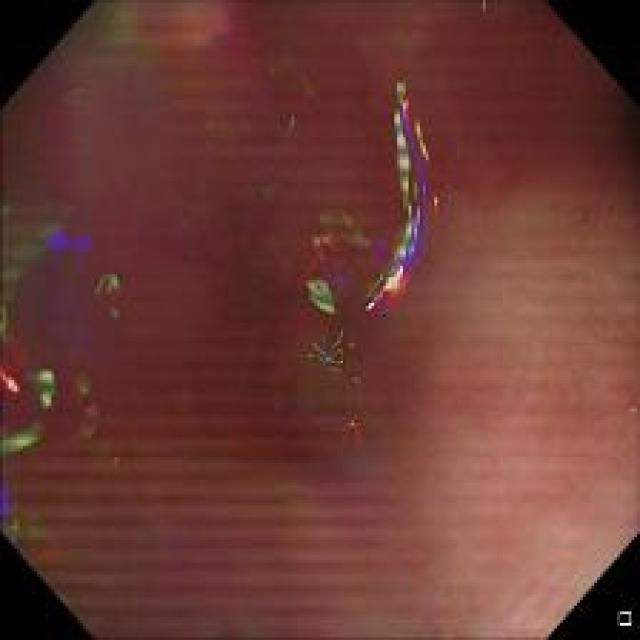color misalignment: (6, 61, 336, 319), (0, 194, 90, 461), (358, 60, 444, 338), (295, 192, 368, 406), (56, 0, 246, 68), (252, 46, 326, 169), (6, 489, 66, 586), (81, 391, 122, 481), (95, 262, 126, 334), (324, 420, 362, 458)
